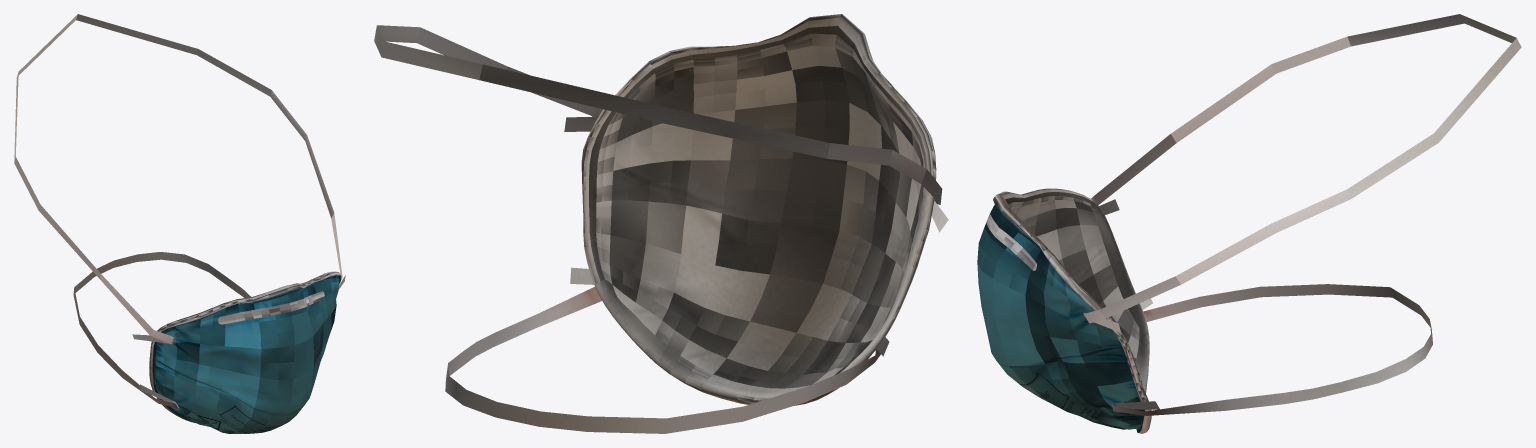
Rendered from mask.fbx.
3 views of the same model, side by side, from view 1: azimuth 30°, elevation 25°; view 2: azimuth 150°, elevation 25°; view 3: azimuth 270°, elevation 25° (orthographic). The views are drawn at different scales.
Parts seen in each view (by area): view 1: N95_mask; view 2: N95_mask; view 3: N95_mask.
Boxes of the visible parts, bbox=[...] form: N95_mask: bbox=[14, 14, 345, 433]; N95_mask: bbox=[374, 14, 948, 433]; N95_mask: bbox=[977, 14, 1521, 433].
Size of the model in its own units: 5.22 by 5.65 by 7.29.
1 material, 1 textured.
